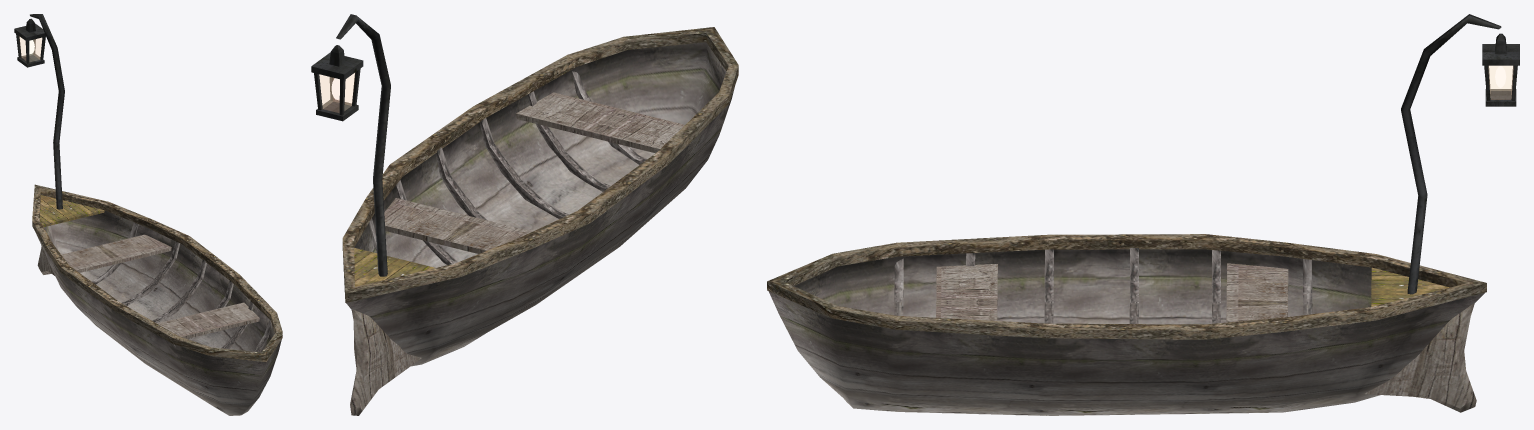
File: victorian_row_boat__lamp_-_low_poly.glb
3 renders of one model, left to right at view 1: azimuth 30°, elevation 25°; view 2: azimuth 150°, elevation 25°; view 3: azimuth 270°, elevation 25°, orthographic. The views are drawn at different scales.
Parts seen in each view (by area): view 1: Victorian Row Boat; view 2: Victorian Row Boat; view 3: Victorian Row Boat.
Boxes of the visible parts, left/top/right/bottom form: Victorian Row Boat: left=14, top=14, right=282, bottom=415; Victorian Row Boat: left=311, top=14, right=738, bottom=415; Victorian Row Boat: left=767, top=14, right=1519, bottom=415.
Bounding box in the file's own units: 1.45 × 2.79 × 4.79.
Materials: 4 (3 with a texture image).
